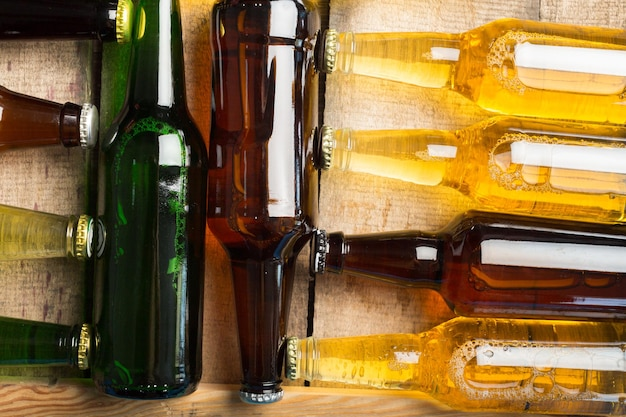alcohol: (206, 0, 317, 406), (95, 1, 203, 401), (324, 17, 626, 138), (281, 315, 626, 416), (309, 211, 626, 318), (321, 120, 626, 222), (0, 80, 100, 155), (2, 201, 105, 268), (1, 1, 146, 43), (1, 314, 99, 373)
